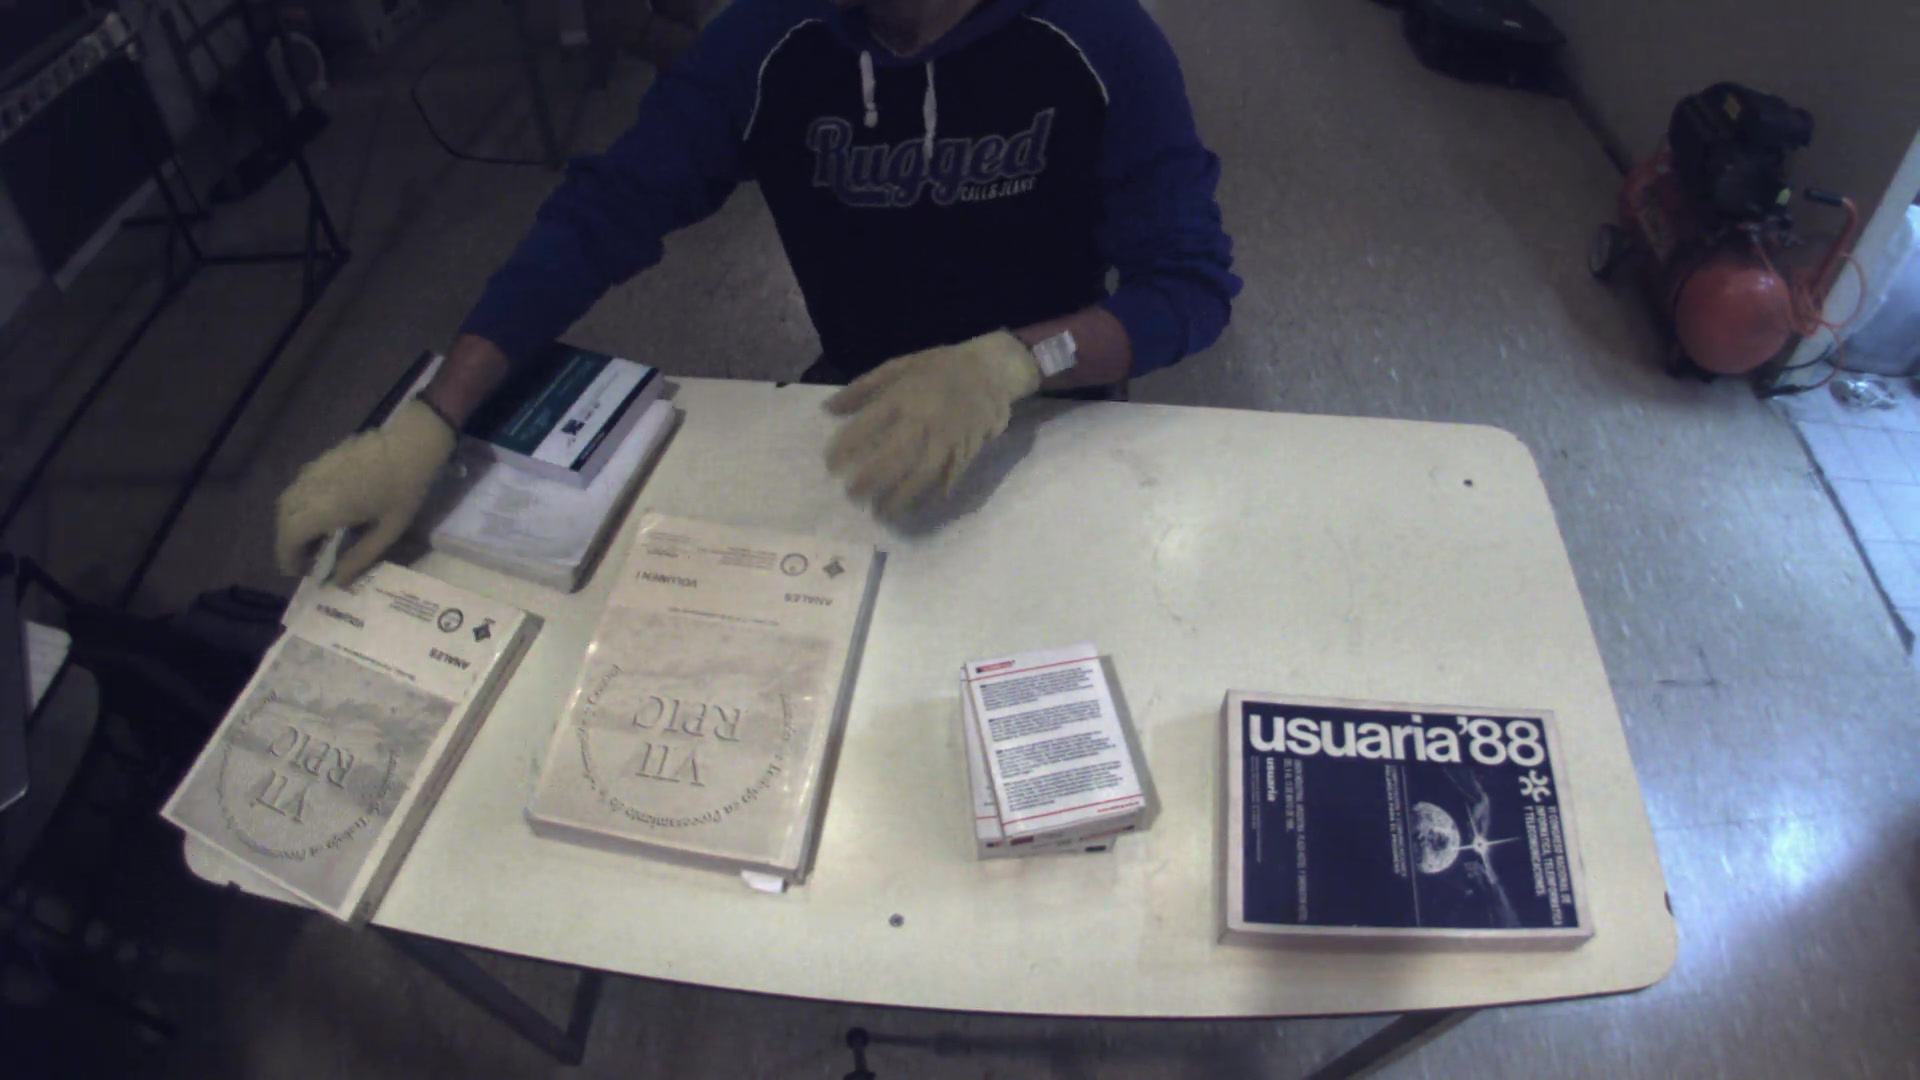hand: (818, 313, 1052, 521), (265, 396, 458, 595)
